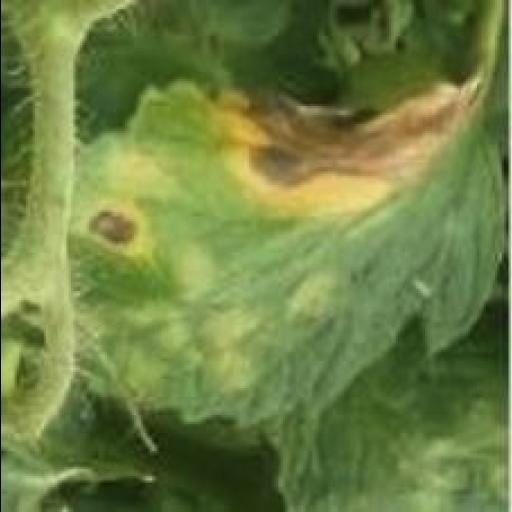disease_tomato: (67, 76, 506, 431)
